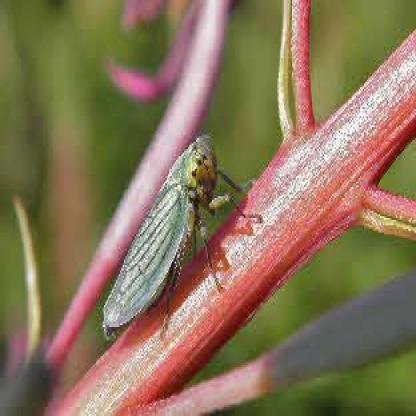Green-Leafhopper: (97, 137, 250, 343)
